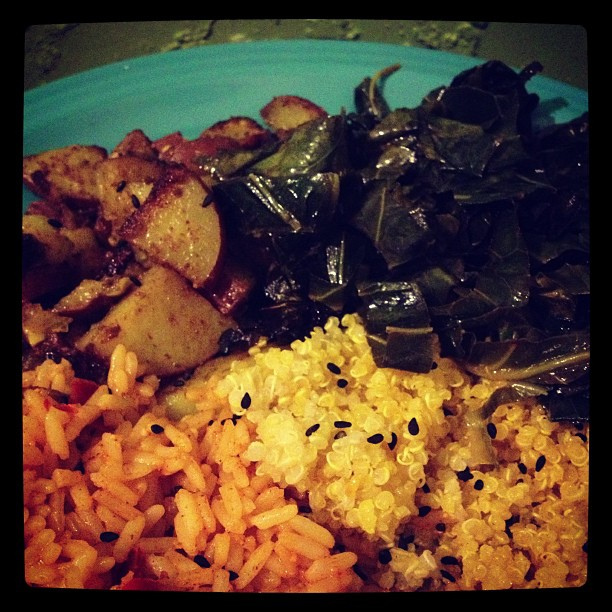boiled potatoes: (29, 147, 234, 360)
chopped lettuce: (242, 102, 601, 351)
plain rice: (21, 369, 315, 612)
